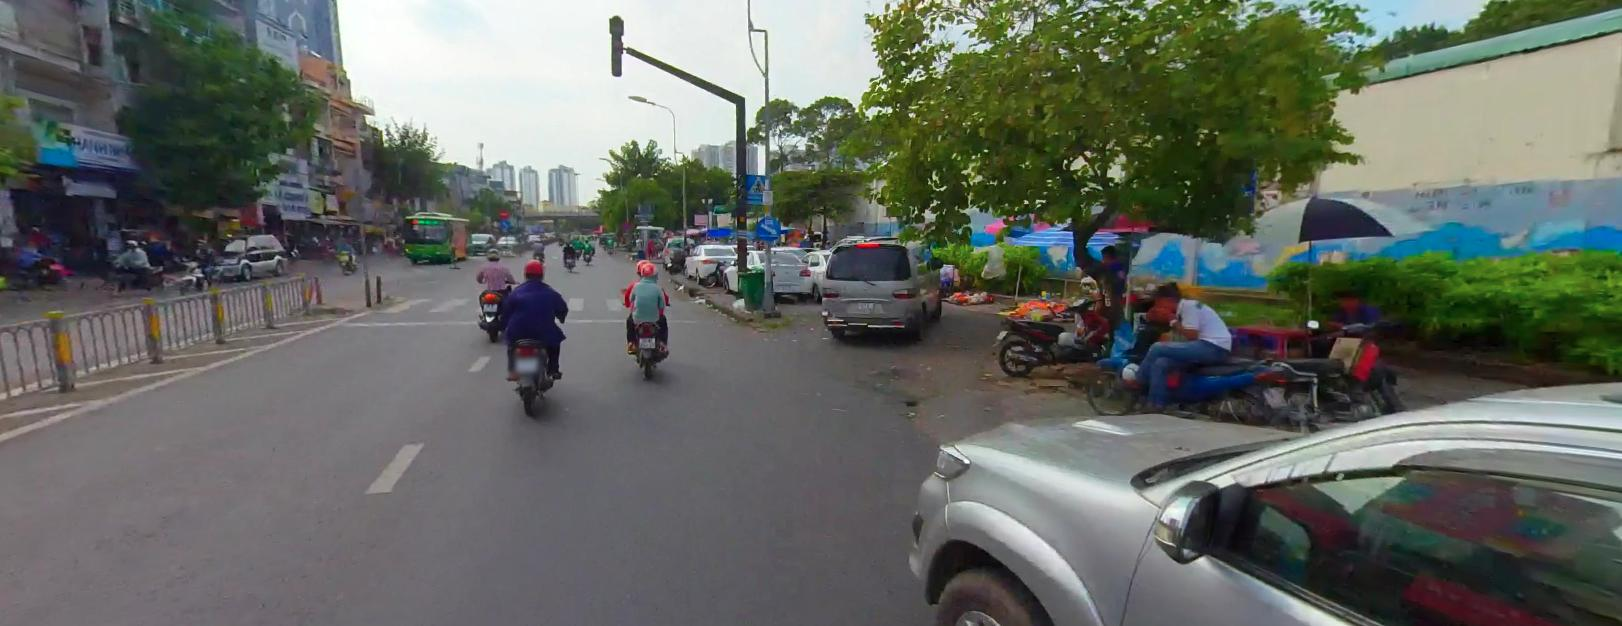Cam dung va do: (622, 219, 633, 230)
Cam nguoc chieu: (497, 207, 509, 218)
Hieu lenh: (498, 217, 510, 227)
